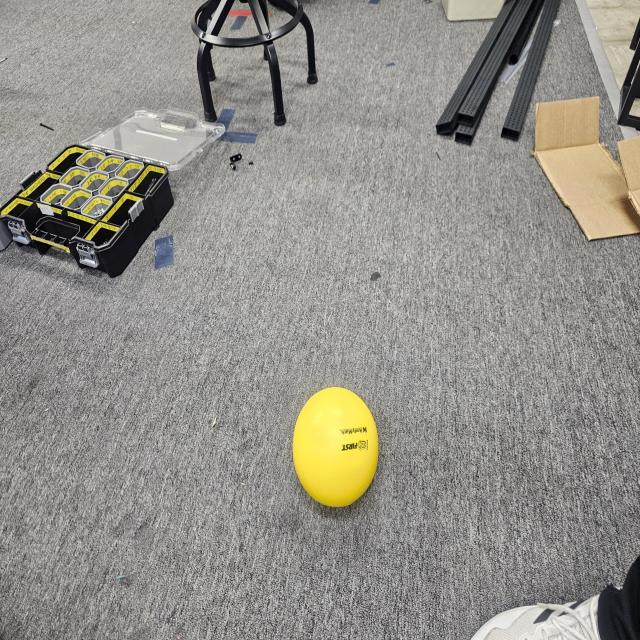Fuel: (288, 383, 382, 512)
